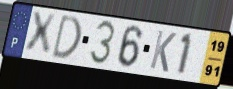1: (176, 32, 194, 77)
3: (88, 19, 116, 67)
6: (116, 24, 145, 71)
D: (50, 13, 83, 60)
K: (148, 29, 178, 75)
X: (24, 10, 58, 57)
